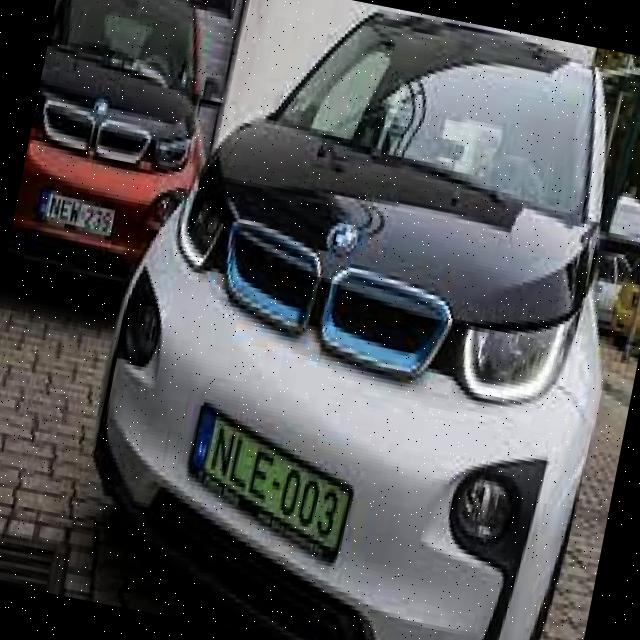licence: (174, 398, 367, 570)
